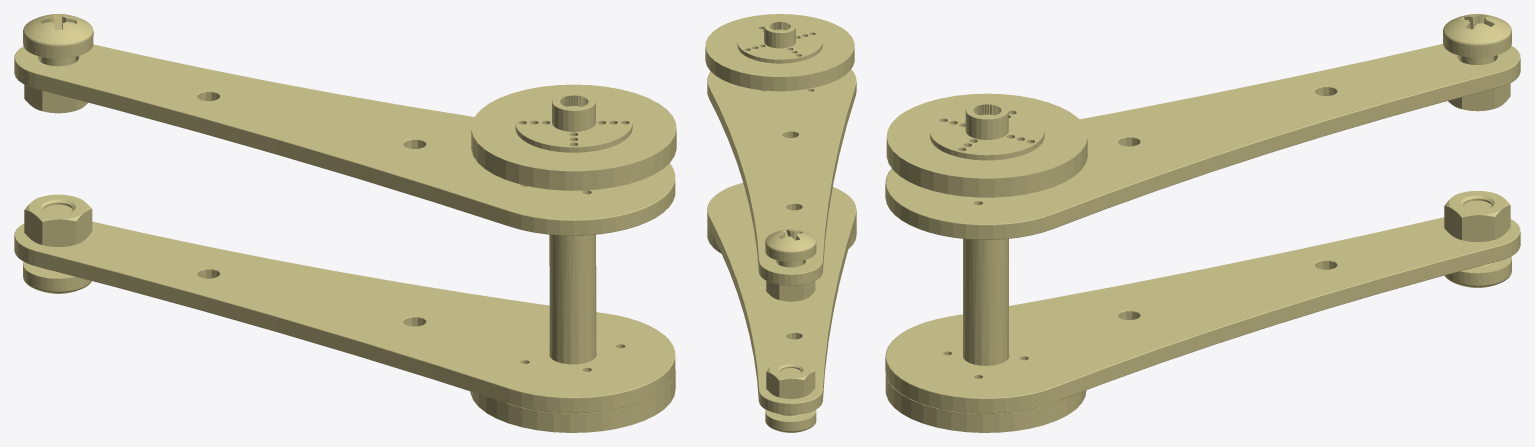
Rendered from link_ante.dae.
The picture shows the model from 3 angles, left to right: view 1: azimuth 30°, elevation 25°; view 2: azimuth 150°, elevation 25°; view 3: azimuth 270°, elevation 25°; orthographic projection. The views are drawn at different scales.
Visible parts, largest first — view 1: link_ante; view 2: link_ante; view 3: link_ante.
Part boxes in pixels (x1=…): link_ante: x1=14, y1=14, x2=676, y2=432; link_ante: x1=705, y1=14, x2=856, y2=432; link_ante: x1=885, y1=14, x2=1520, y2=432.
Size of the model in its own units: 0.0771 by 0.1105 by 0.059.
